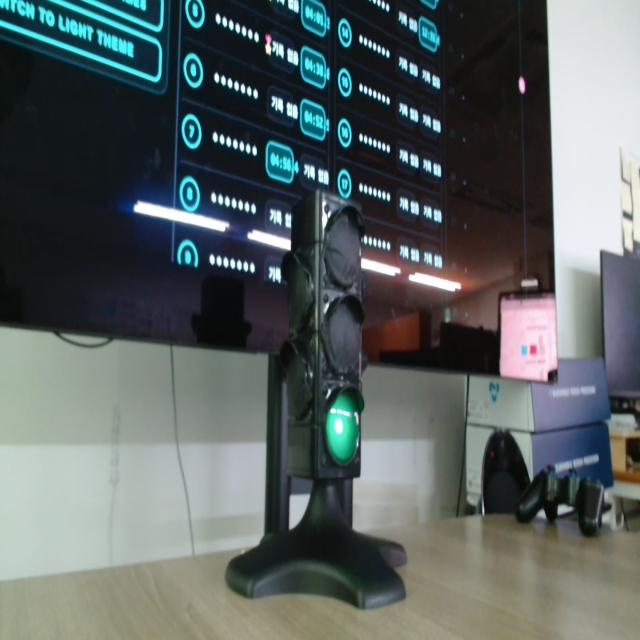green_light: (326, 393, 359, 465)
